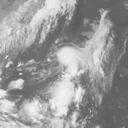cyclone: (52, 41, 89, 78)
